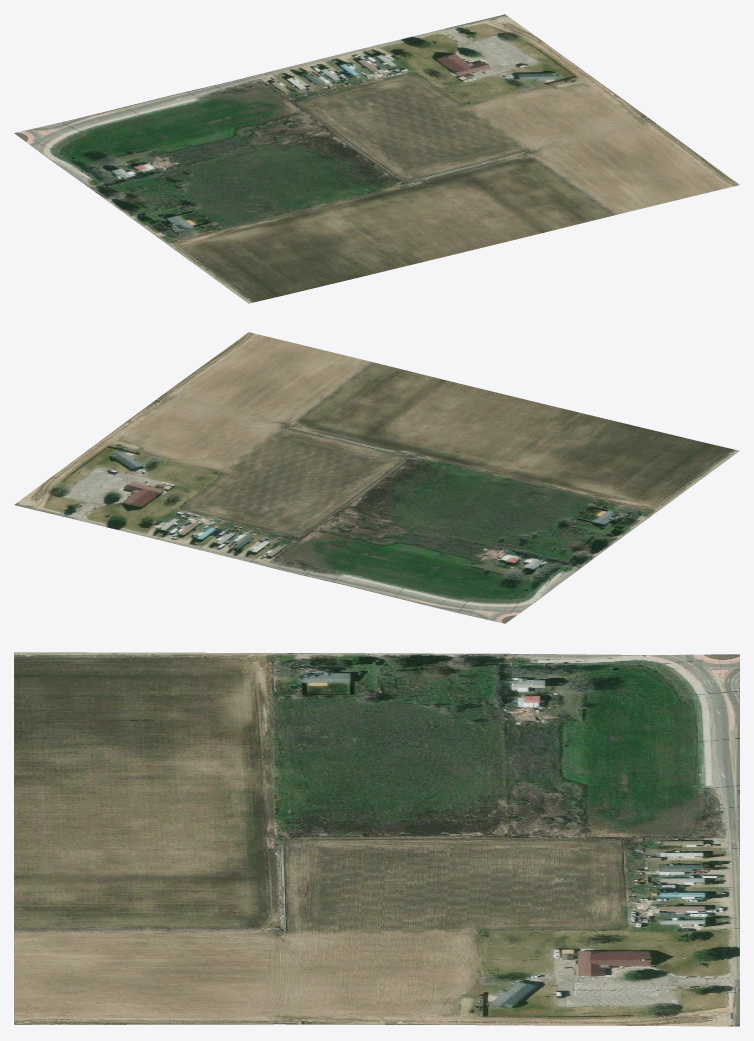
The model's file is caldwell-aerial.glb.
The picture shows the model from 3 angles, top to bottom: view 1: azimuth 30°, elevation 25°; view 2: azimuth 150°, elevation 25°; view 3: azimuth 270°, elevation 25°; orthographic projection. The views are drawn at different scales.
Parts seen in each view (by area): view 1: geometry_0; view 2: geometry_0; view 3: geometry_0.
Boxes of the visible parts, x1,y1,x2,y2 form: geometry_0: (14, 14, 739, 303); geometry_0: (14, 332, 739, 623); geometry_0: (14, 652, 739, 1026).
Bounding box in the file's own units: 403 × 2.07 × 333.
1 material, 1 textured.
